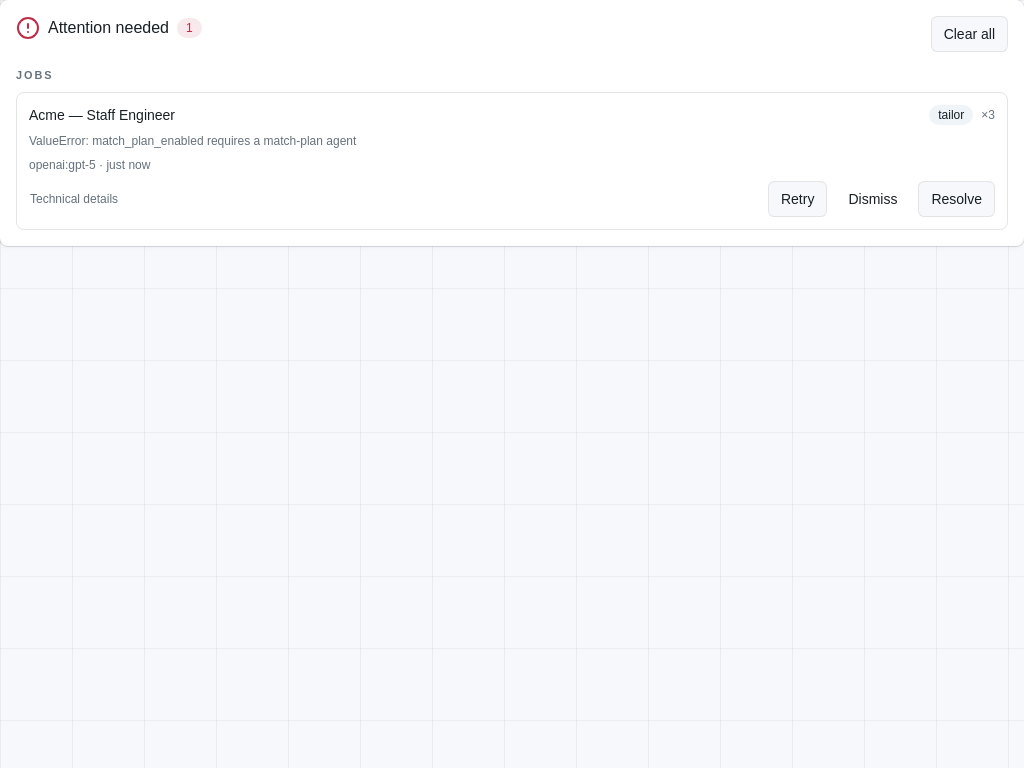
Test: AttentionCard › opens redo for that job and stage when Retry is clicked
The width and height of the screenshot is (1024, 768).
Click the button "Retry" at (798, 198), box [768, 180, 828, 216]
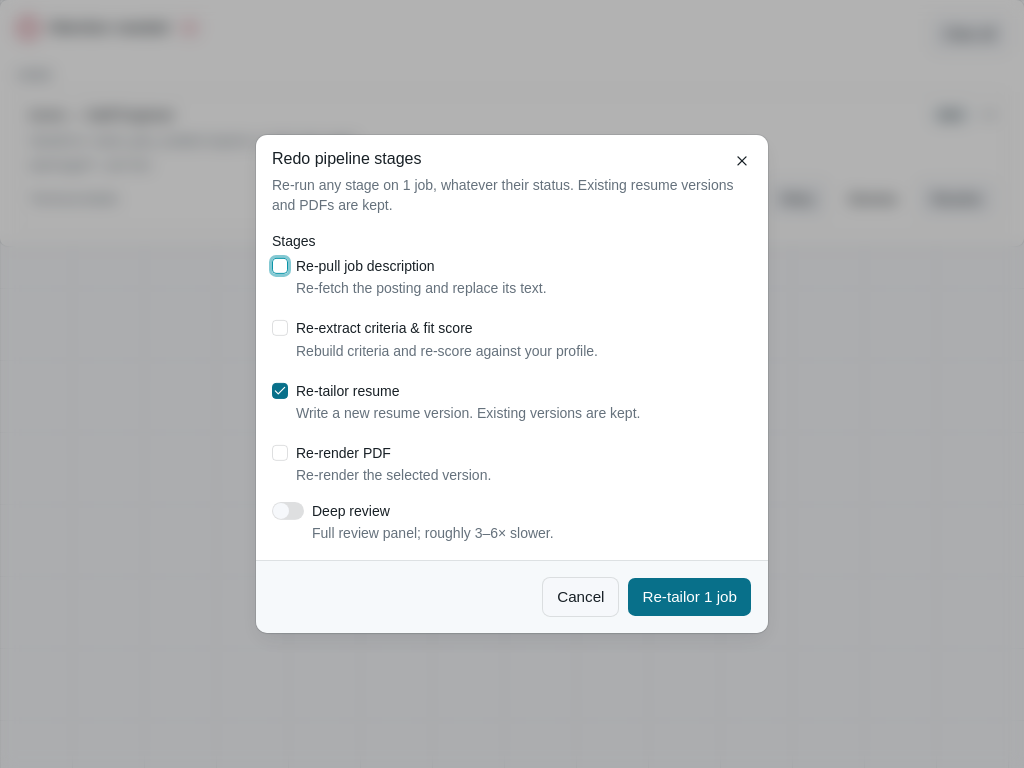
Now the checkbox named "re-tailor resume" next to "Re-tailor resume" is checked, box [272, 382, 288, 398]
Now the checkbox named "re-pull job description" next to "Re-pull job description" is not checked, box [272, 258, 288, 274]
Now the button "Re-tailor 1 job" is enabled, box [628, 577, 752, 617]
